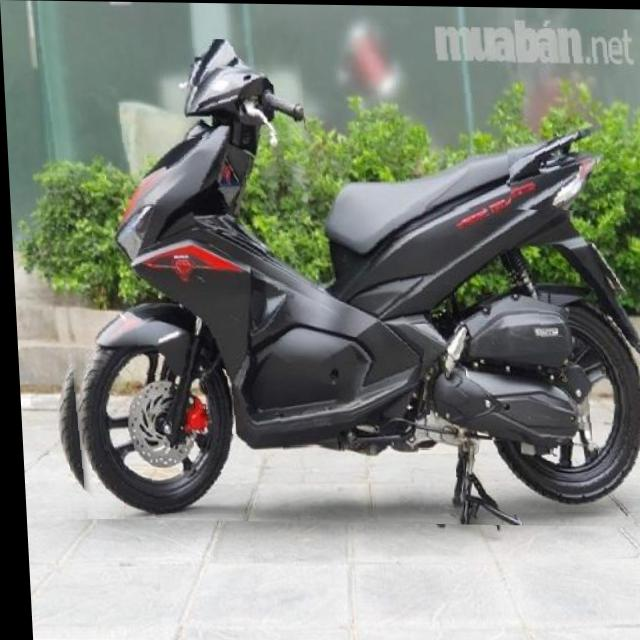All: (37, 34, 640, 525)
Head: (168, 38, 303, 139)
Tail: (504, 118, 597, 209)
